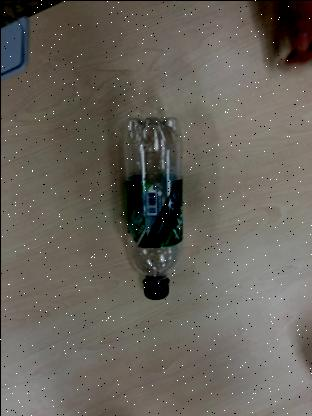Plastic Bottle: (121, 110, 184, 304)
